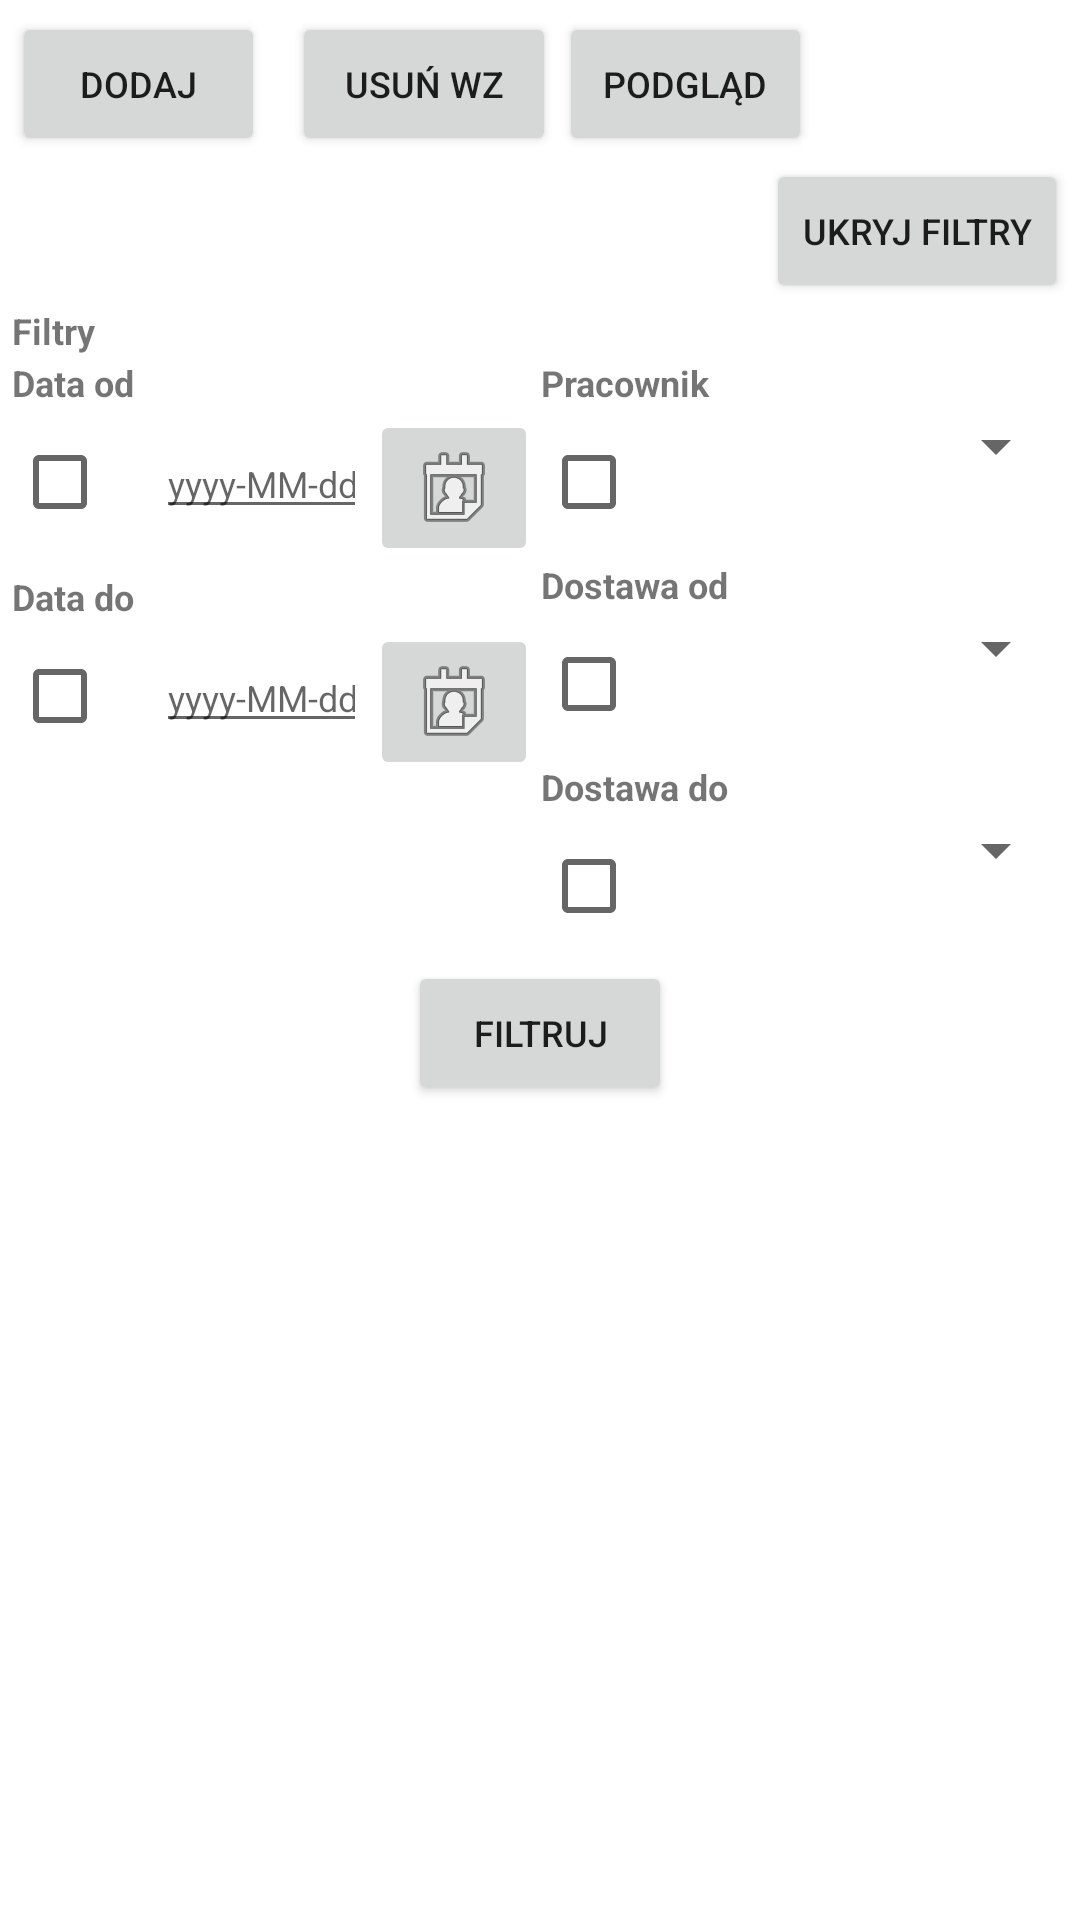

Where icons sit on this 1080x1920 app screen, as (x1, y1, x2, y2):
Wybierz datę do: (382, 642, 526, 762)
Wybierz datę od: (382, 428, 526, 548)
